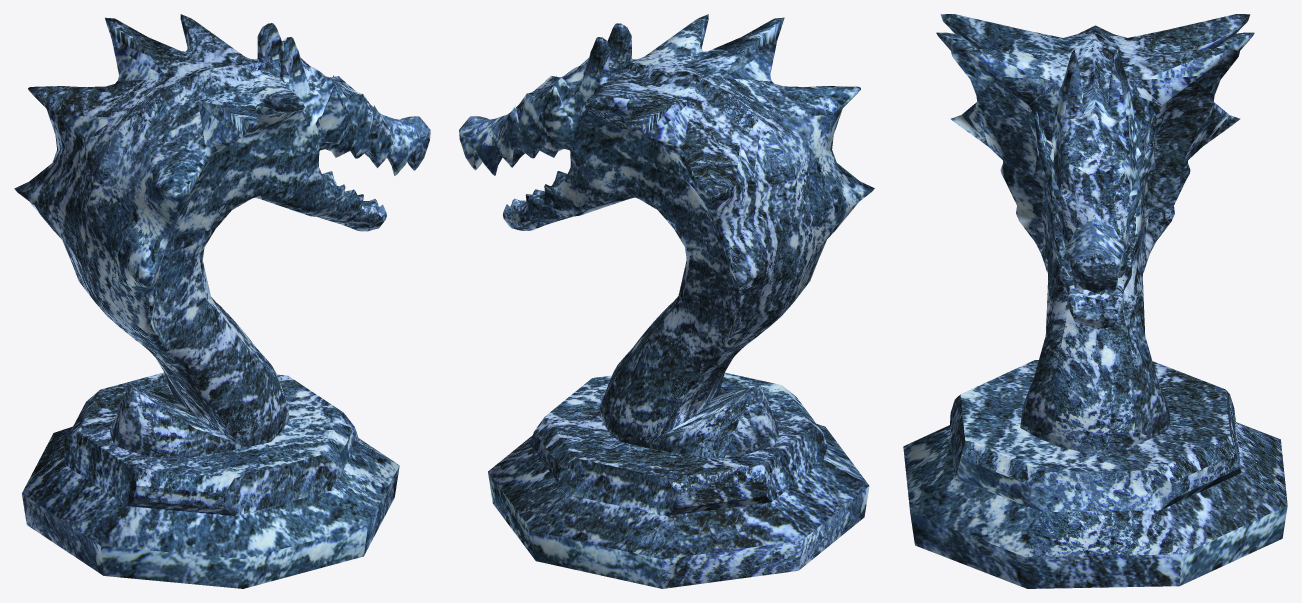
The model's file is Bishop.FBX.
The picture shows the model from 3 angles, left to right: view 1: azimuth 30°, elevation 25°; view 2: azimuth 150°, elevation 25°; view 3: azimuth 270°, elevation 25°; orthographic projection. The views are drawn at different scales.
Visible parts, largest first — view 1: Bishop; view 2: Bishop; view 3: Bishop.
Boxes of the visible parts, x1=… form: Bishop: x1=14, y1=14, x2=430, y2=588; Bishop: x1=459, y1=14, x2=874, y2=588; Bishop: x1=903, y1=14, x2=1287, y2=588.
Bounding box in the file's own units: 1837 × 2194 × 1544.
1 material, 1 textured.
